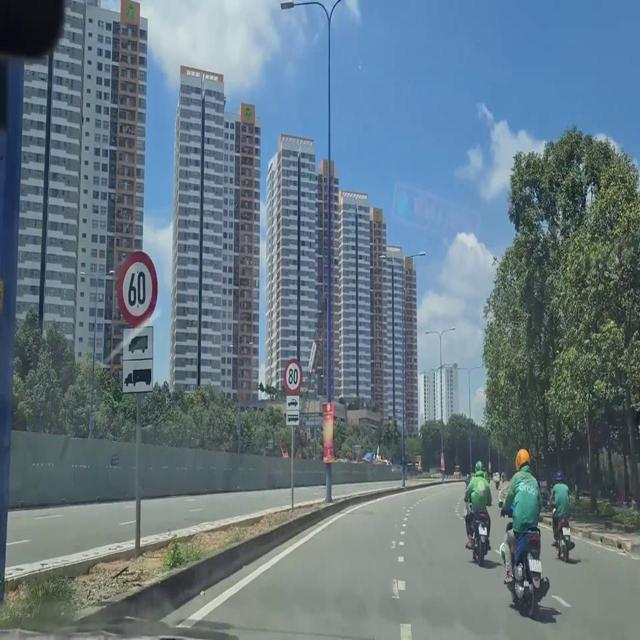Biển phụ: (110, 322, 159, 393), (282, 391, 303, 427)
Giới hạn tốc độ: 60Km/h: (105, 234, 164, 325)
Giới hạn tốc độ: 80Km/h: (277, 349, 304, 392)
